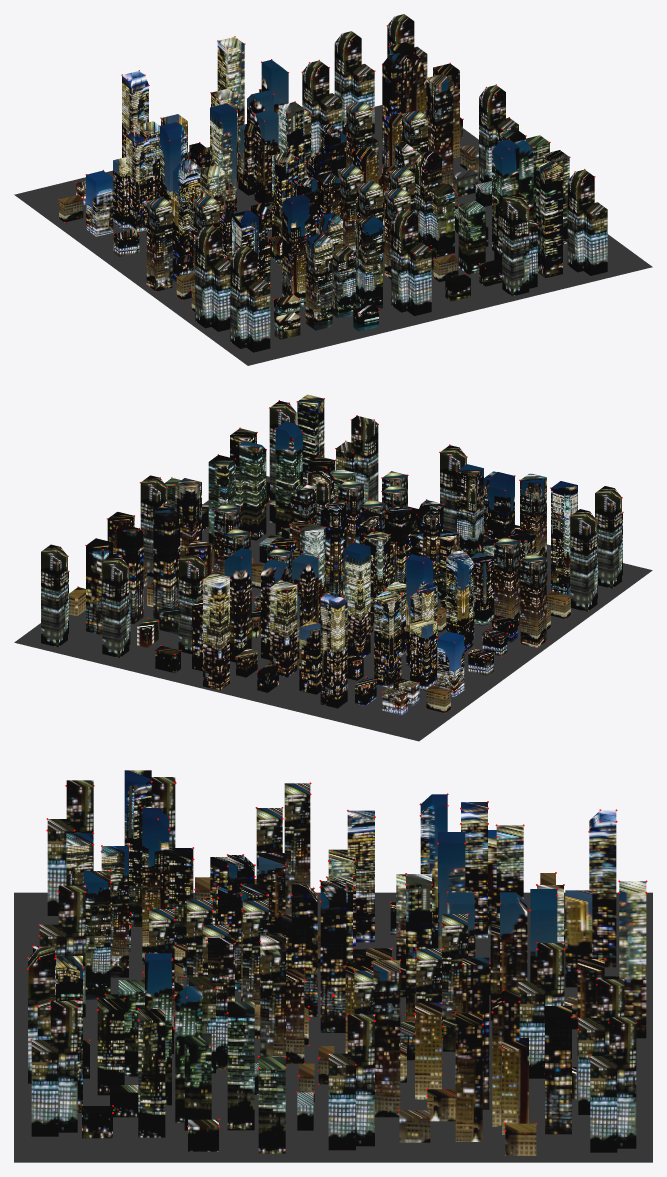
The model's file is city.glb.
The picture shows the model from 3 angles, top to bottom: view 1: azimuth 30°, elevation 25°; view 2: azimuth 150°, elevation 25°; view 3: azimuth 270°, elevation 25°; orthographic projection. The views are drawn at different scales.
Parts seen in each view (by area): view 1: City, Plane; view 2: City, Plane; view 3: City, Plane.
Part boxes in pixels (x1,y1,x2,y2): City: [59, 14, 607, 352]; Plane: [14, 105, 652, 365]; City: [41, 394, 622, 715]; Plane: [14, 476, 652, 741]; City: [28, 770, 646, 1155]; Plane: [14, 892, 652, 1162].
Size of the model in its own units: 1232 by 317 by 1232.
3 materials, 1 textured.
